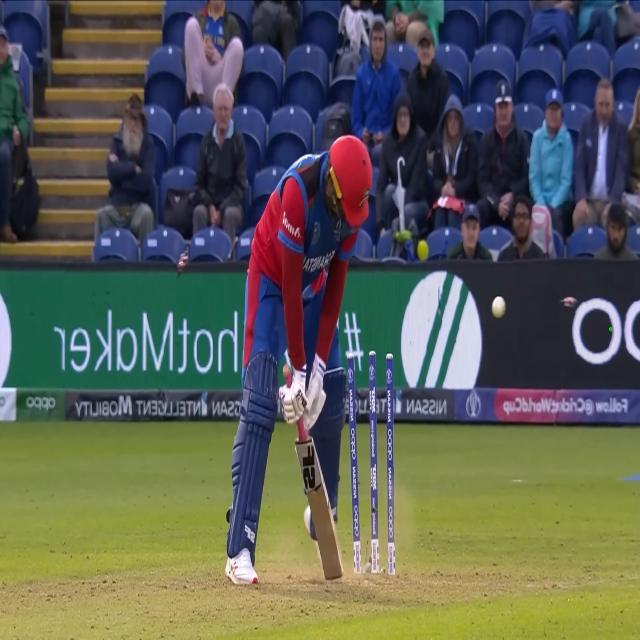ball: (486, 289, 512, 327)
